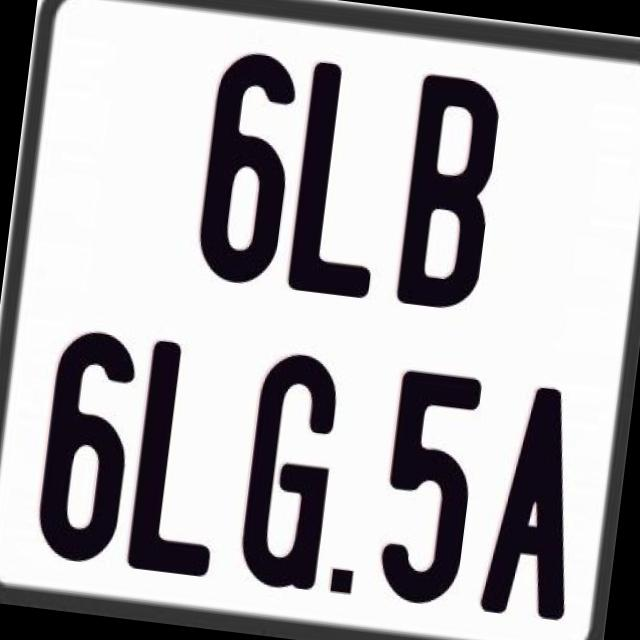5: (373, 364, 485, 606)
6: (31, 325, 146, 574), (192, 48, 303, 295)
A: (480, 378, 598, 616)
B: (391, 71, 504, 318)
G: (235, 350, 346, 597)
L: (286, 58, 402, 300), (122, 338, 234, 578)
